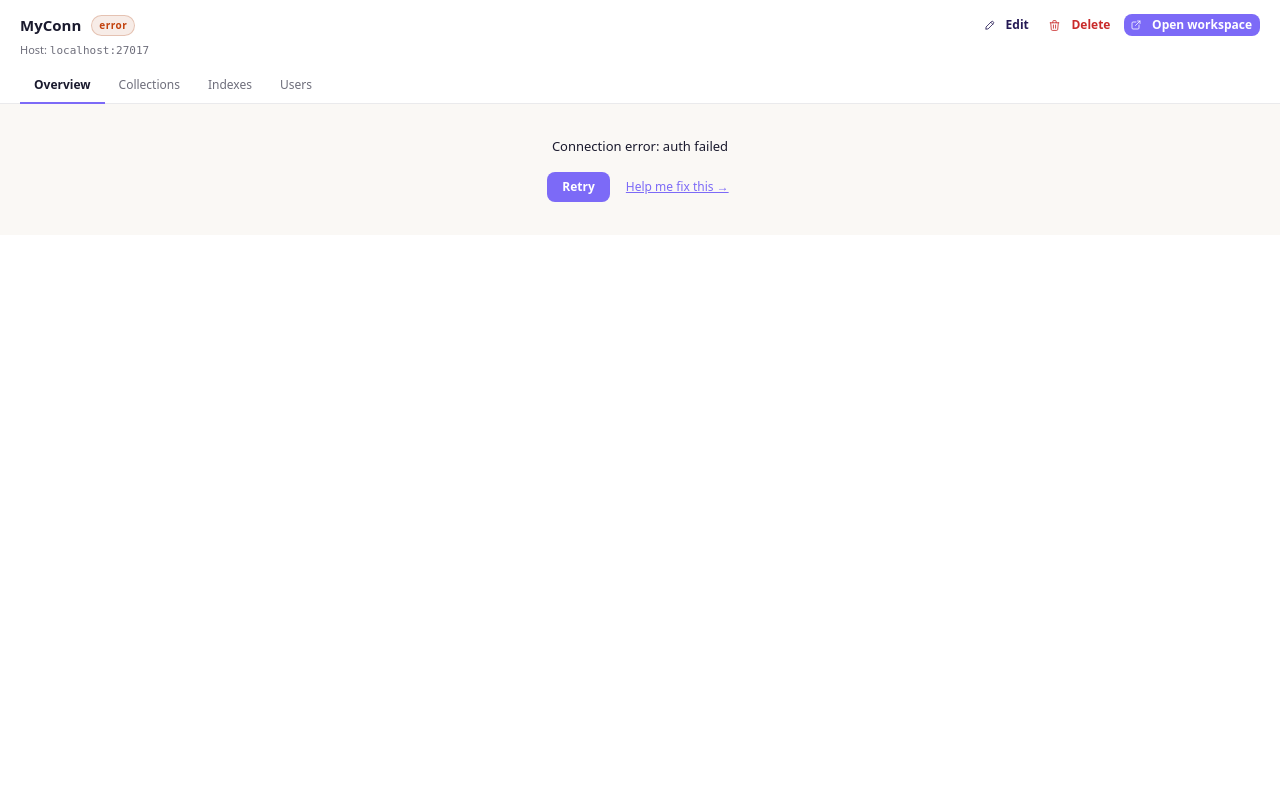
DetailPanel — troubleshooting trigger › shows the help link in the error state and opens the matching recipe
This screenshot has width=1280, height=800.
Check: the text "Connection error: auth failed" is shown, box [552, 137, 728, 155]
Click the button "Help me fix this →" at point(677, 187), box [622, 172, 733, 203]
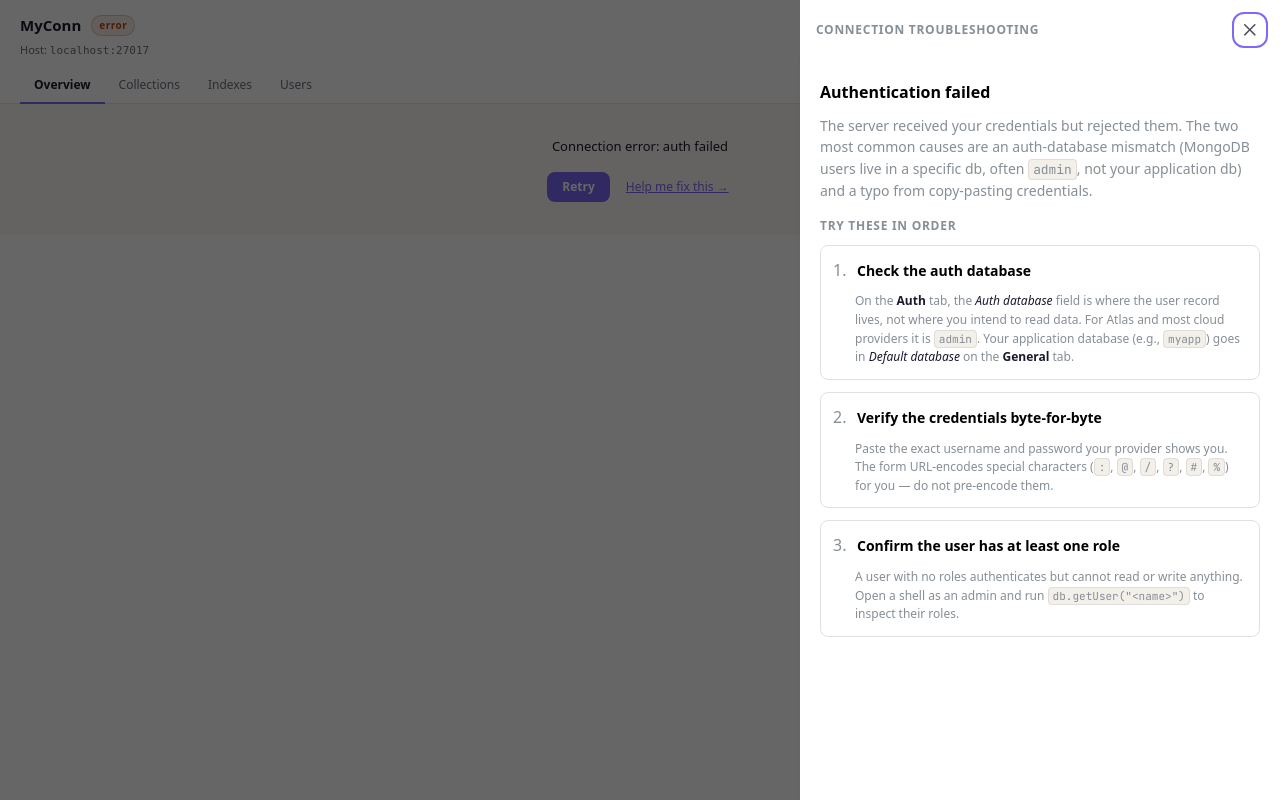
Check: the text "Authentication failed" is shown, box [820, 81, 990, 103]
